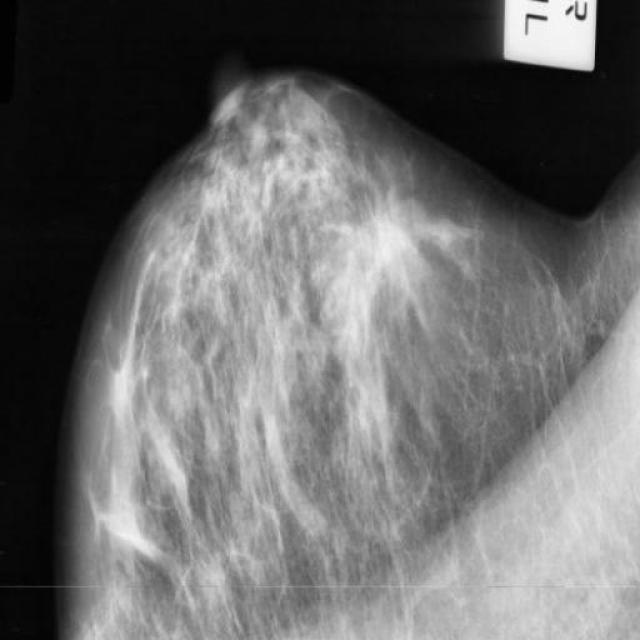cancer: (323, 337, 418, 499)
